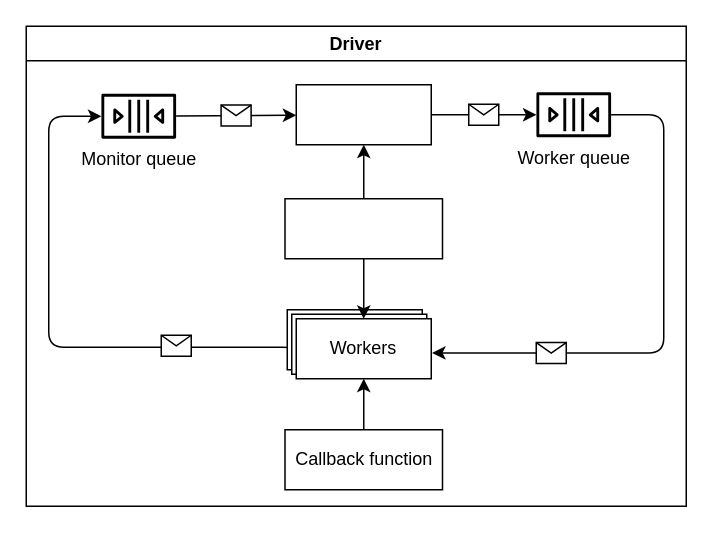
Image size: 713x533. Some labels were removed from this diagram. The centre of each missing label's shape, as x and y in pixels:
"Monitor" belongs at (x=363, y=114).
"Shared memory" belongs at (x=363, y=228).
